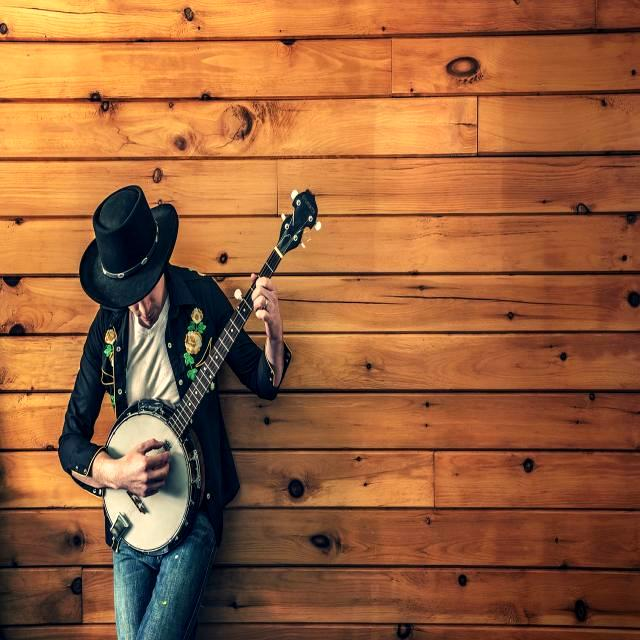no_hard_hat: (80, 185, 178, 309)
person: (55, 262, 293, 639)
